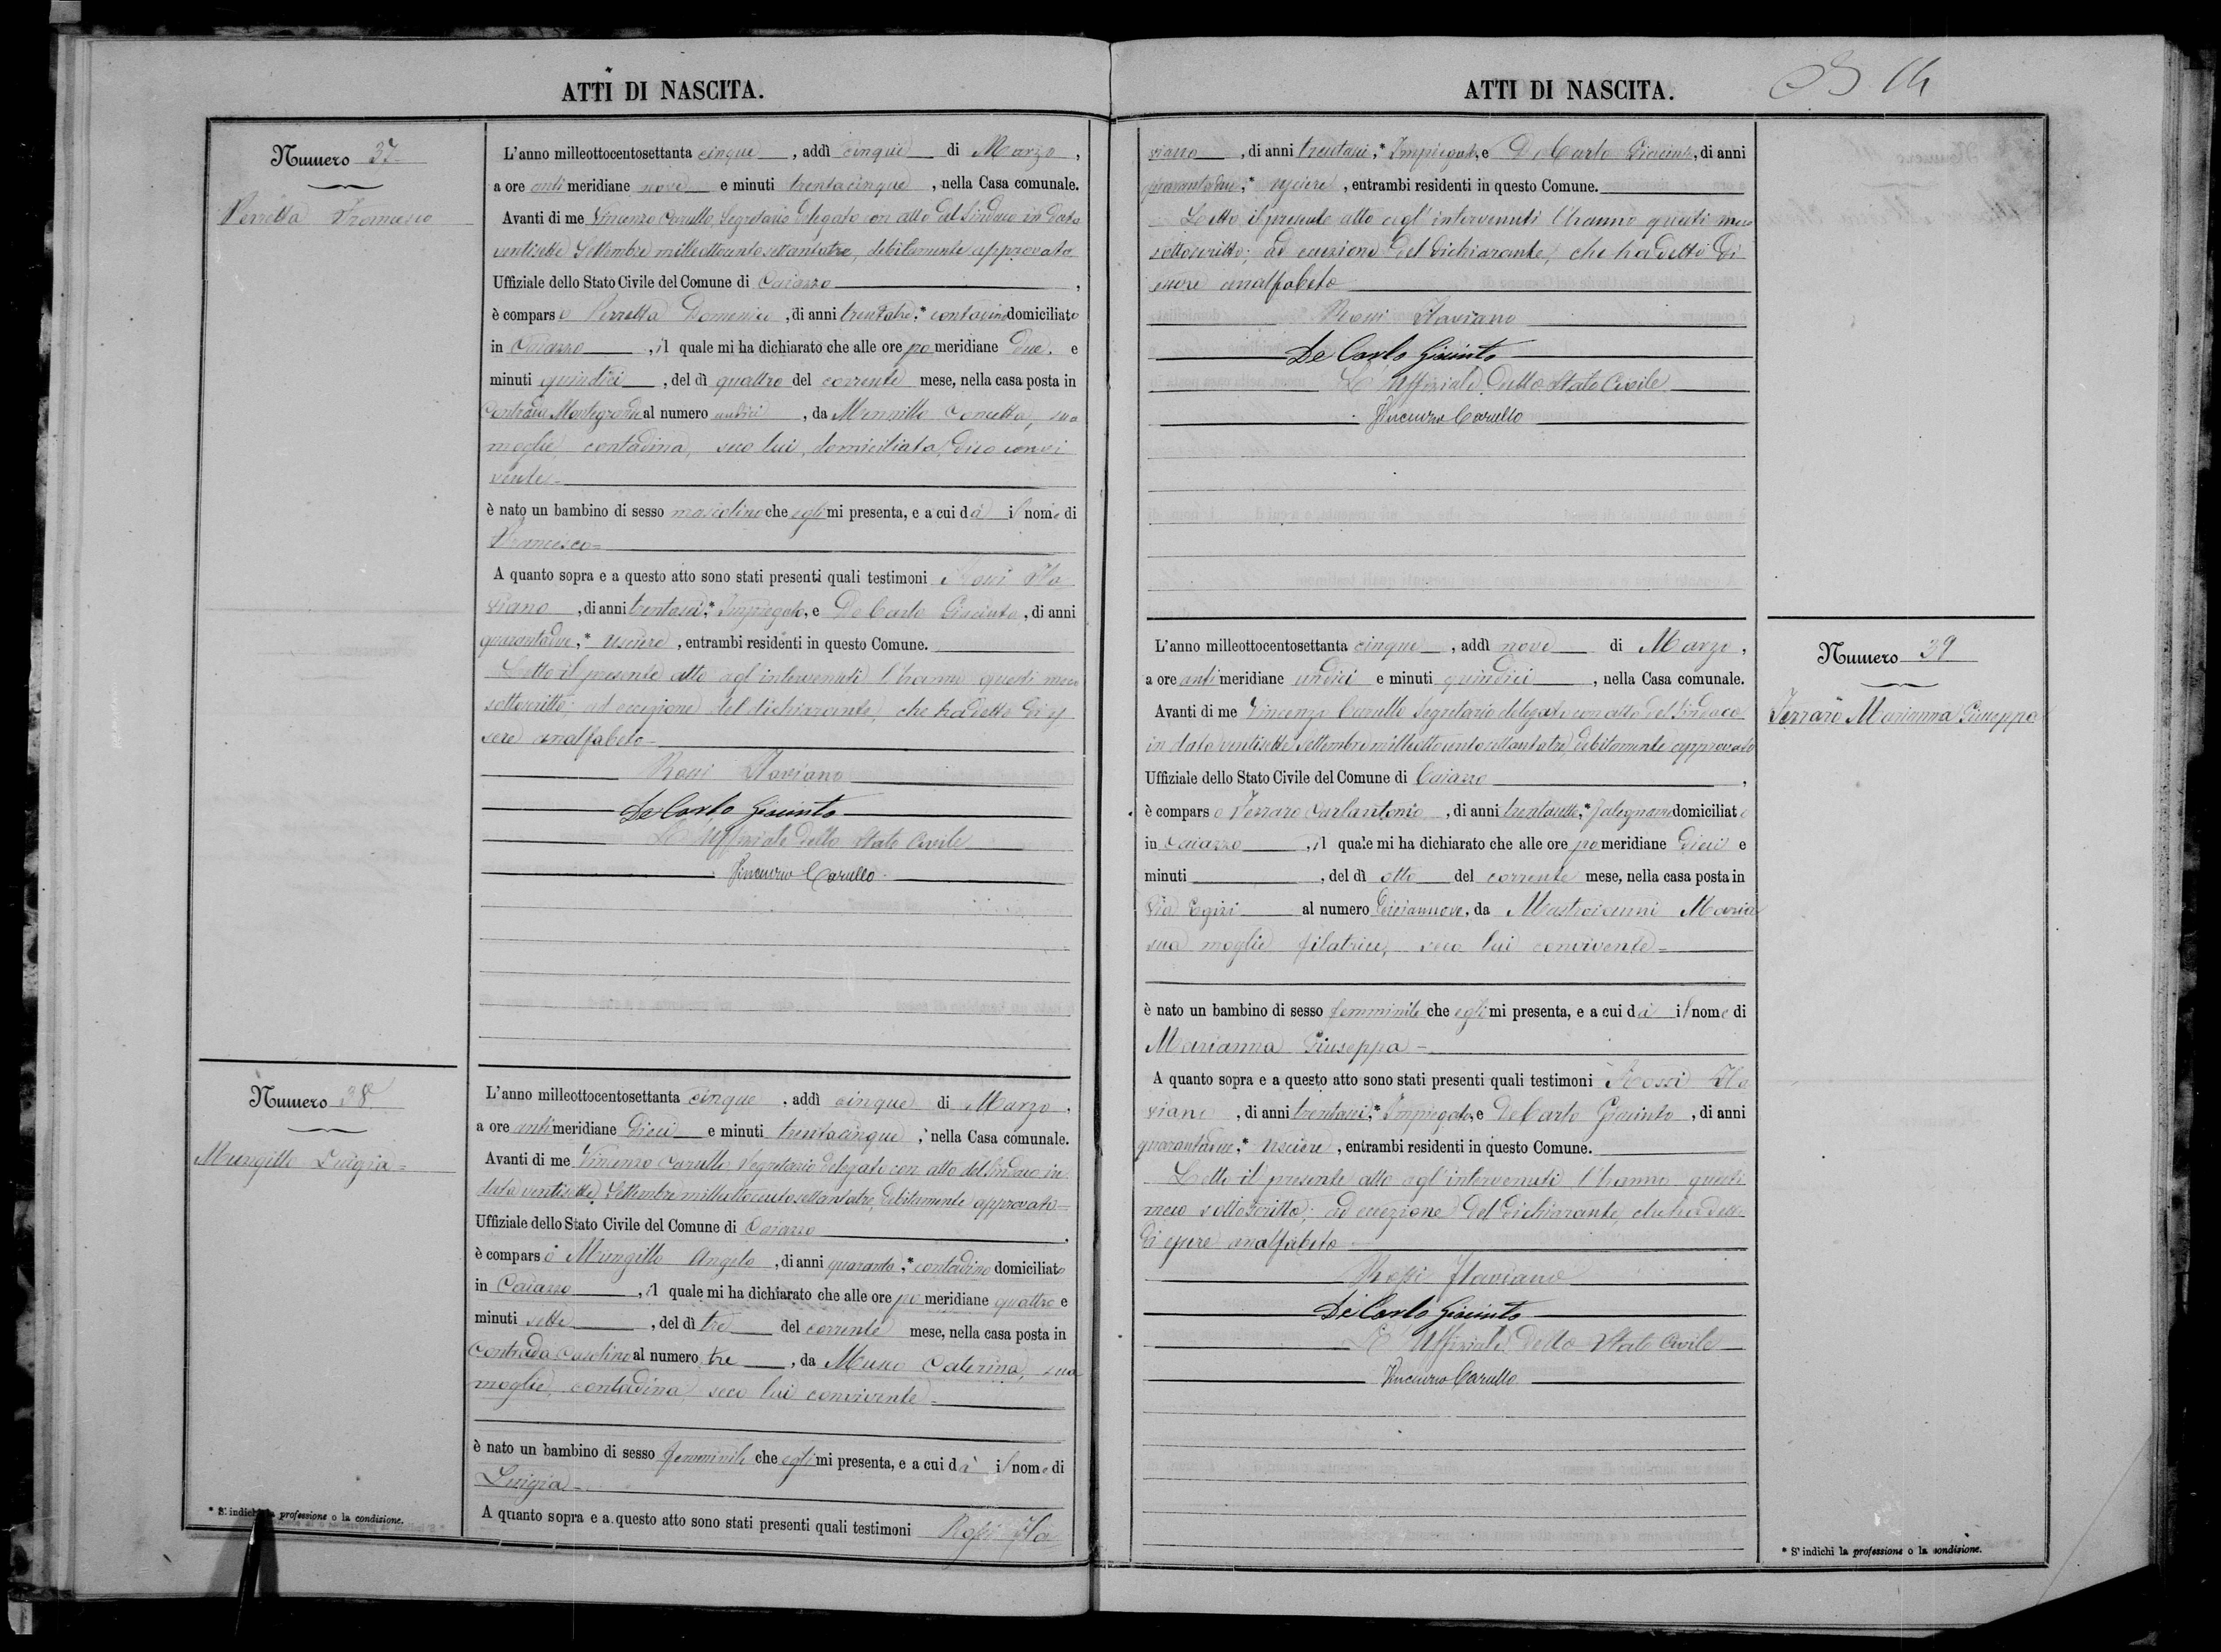Handwriting: (1145, 1190, 1754, 1239), (1165, 1159, 1752, 1204), (501, 652, 1081, 696), (485, 429, 1057, 472), (1146, 923, 1658, 970), (485, 692, 1068, 732), (481, 1178, 1064, 1218), (1144, 725, 1755, 762), (579, 1144, 1067, 1189), (593, 194, 1081, 238), (1147, 230, 1740, 265), (472, 1368, 927, 1412), (1246, 693, 1749, 732), (493, 236, 1082, 267), (1356, 1319, 1724, 1368), (1187, 202, 1753, 231), (1767, 684, 2052, 735), (647, 819, 974, 861), (1136, 1021, 1409, 1066), (1332, 365, 1671, 398), (194, 1140, 406, 1188), (1347, 1255, 1569, 1300), (545, 1237, 758, 1284), (617, 789, 883, 826), (1490, 1090, 1673, 1143), (1138, 1222, 1338, 1270), (1282, 330, 1536, 367), (824, 1343, 1082, 1379), (1319, 1288, 1528, 1332), (832, 397, 1081, 433), (482, 711, 654, 761), (1501, 890, 1766, 921), (1148, 262, 1342, 301), (220, 190, 434, 226), (1216, 790, 1429, 825), (1504, 125, 1696, 162), (1306, 295, 1518, 326), (942, 1512, 1054, 1571), (1364, 395, 1523, 435), (641, 750, 845, 781), (481, 396, 643, 433), (559, 293, 773, 320), (727, 853, 875, 891), (830, 593, 1020, 622), (1603, 1057, 1751, 1094), (777, 1116, 906, 1155), (470, 1333, 629, 1363), (1380, 1358, 1535, 1388), (474, 1463, 572, 1508), (1134, 1126, 1237, 1167), (1323, 995, 1424, 1035), (1635, 626, 1734, 667), (1486, 849, 1588, 886), (476, 621, 572, 660), (939, 556, 1066, 585), (486, 517, 603, 548), (655, 1440, 753, 1477), (963, 1091, 1050, 1131), (1142, 892, 1246, 925), (785, 171, 911, 197), (1374, 889, 1472, 923), (716, 595, 806, 630), (971, 134, 1055, 172), (1439, 664, 1542, 695), (1495, 626, 1561, 673), (1390, 1097, 1475, 1133), (539, 363, 627, 396), (1413, 756, 1491, 793), (1393, 134, 1479, 167), (1357, 628, 1441, 661), (1290, 657, 1369, 691), (1499, 788, 1579, 821), (1294, 1091, 1371, 1123), (1258, 1127, 1336, 1159), (498, 1271, 571, 1303), (1593, 795, 1671, 825), (822, 363, 906, 390), (1677, 824, 1740, 859), (627, 589, 709, 616), (806, 1313, 894, 1338), (1300, 134, 1372, 164), (842, 134, 913, 164), (669, 497, 764, 519), (822, 1255, 899, 1282), (1270, 169, 1337, 200), (336, 1077, 396, 1111), (1143, 1096, 1214, 1124), (690, 1086, 761, 1114), (599, 624, 672, 651), (836, 1089, 916, 1113), (915, 1250, 990, 1275), (841, 299, 918, 323), (1146, 178, 1241, 198), (711, 371, 784, 396), (994, 1291, 1059, 1319), (775, 1444, 817, 1486), (509, 332, 586, 354), (1452, 998, 1491, 1040), (758, 268, 832, 291), (1161, 832, 1243, 851), (1376, 862, 1427, 892), (788, 502, 828, 540), (698, 140, 761, 164), (486, 592, 551, 614), (745, 1217, 815, 1238), (488, 464, 558, 485), (930, 302, 1006, 319), (635, 170, 691, 193), (628, 1113, 679, 1139), (526, 1305, 575, 1330), (1010, 328, 1052, 356), (1563, 835, 1599, 867), (710, 400, 769, 420), (881, 1293, 922, 1321), (368, 137, 400, 172), (1919, 633, 1958, 661), (1174, 665, 1222, 687), (512, 1115, 554, 1137), (702, 1305, 735, 1331), (1148, 145, 1202, 161), (894, 342, 930, 365), (707, 1345, 737, 1368), (530, 174, 565, 193), (1635, 999, 1662, 1020), (971, 496, 994, 521), (1002, 1450, 1022, 1474), (1012, 497, 1034, 518), (1685, 992, 1697, 1023), (960, 1456, 978, 1473), (1719, 1005, 1730, 1026), (1740, 802, 1752, 822), (1043, 1464, 1049, 1476), (1053, 513, 1060, 518)
